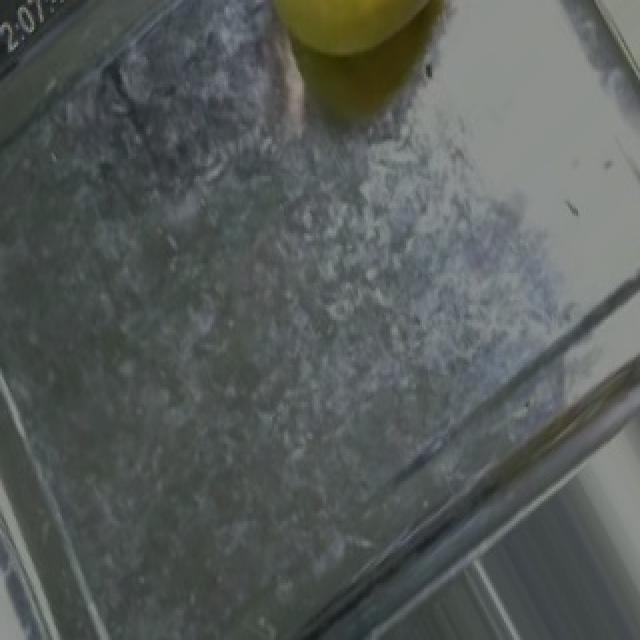fruit: (220, 0, 470, 97)
